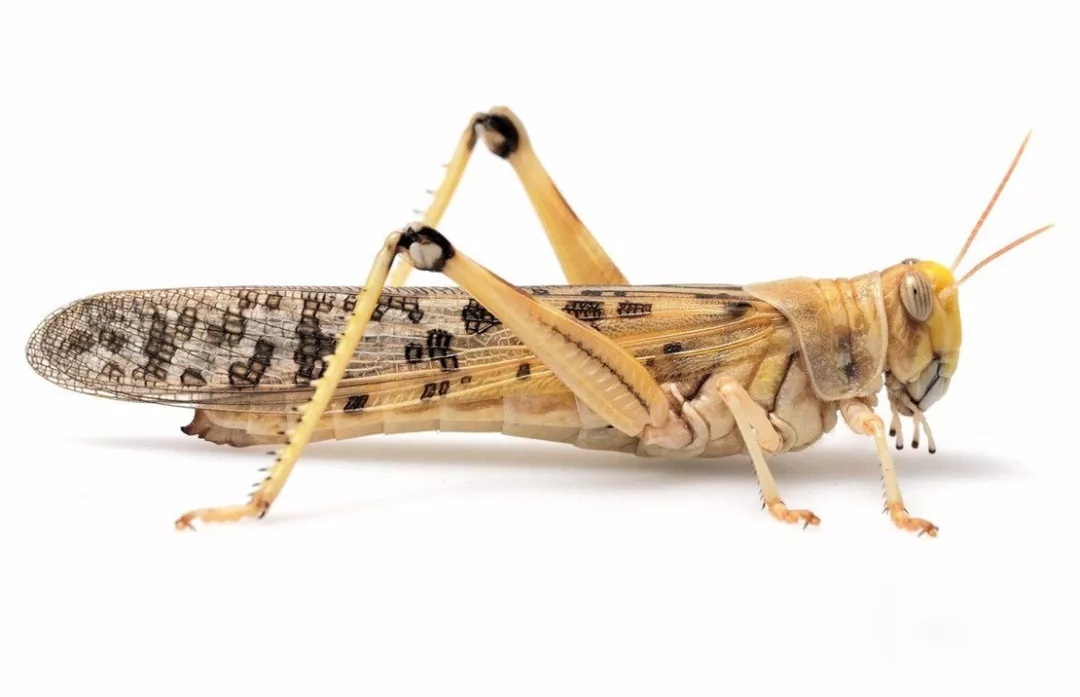huangchong: (22, 113, 980, 541)
